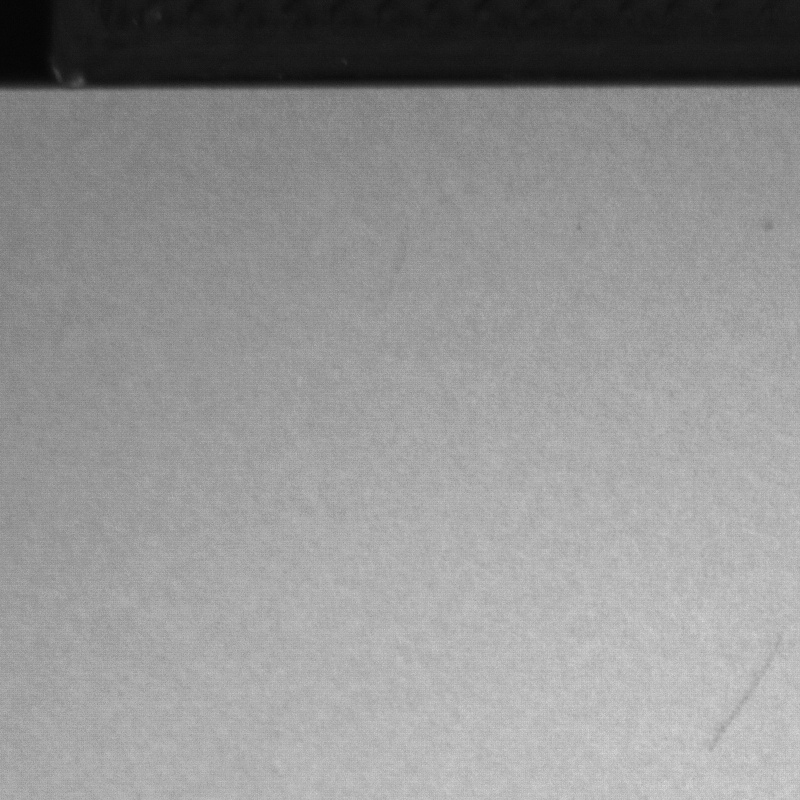defect: (707, 642, 784, 754), (757, 219, 777, 235)
